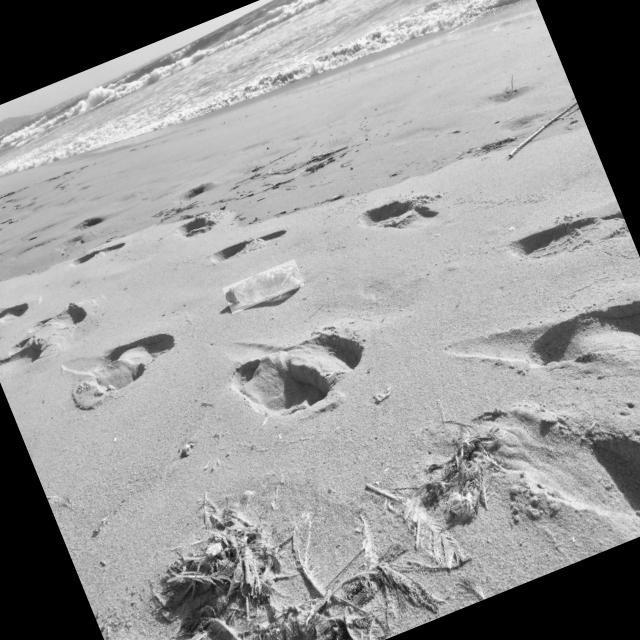Bottle cap: (225, 288, 236, 303)
Clear plastic bottle: (225, 264, 301, 304)
Unlabeled litter: (412, 494, 420, 521)
